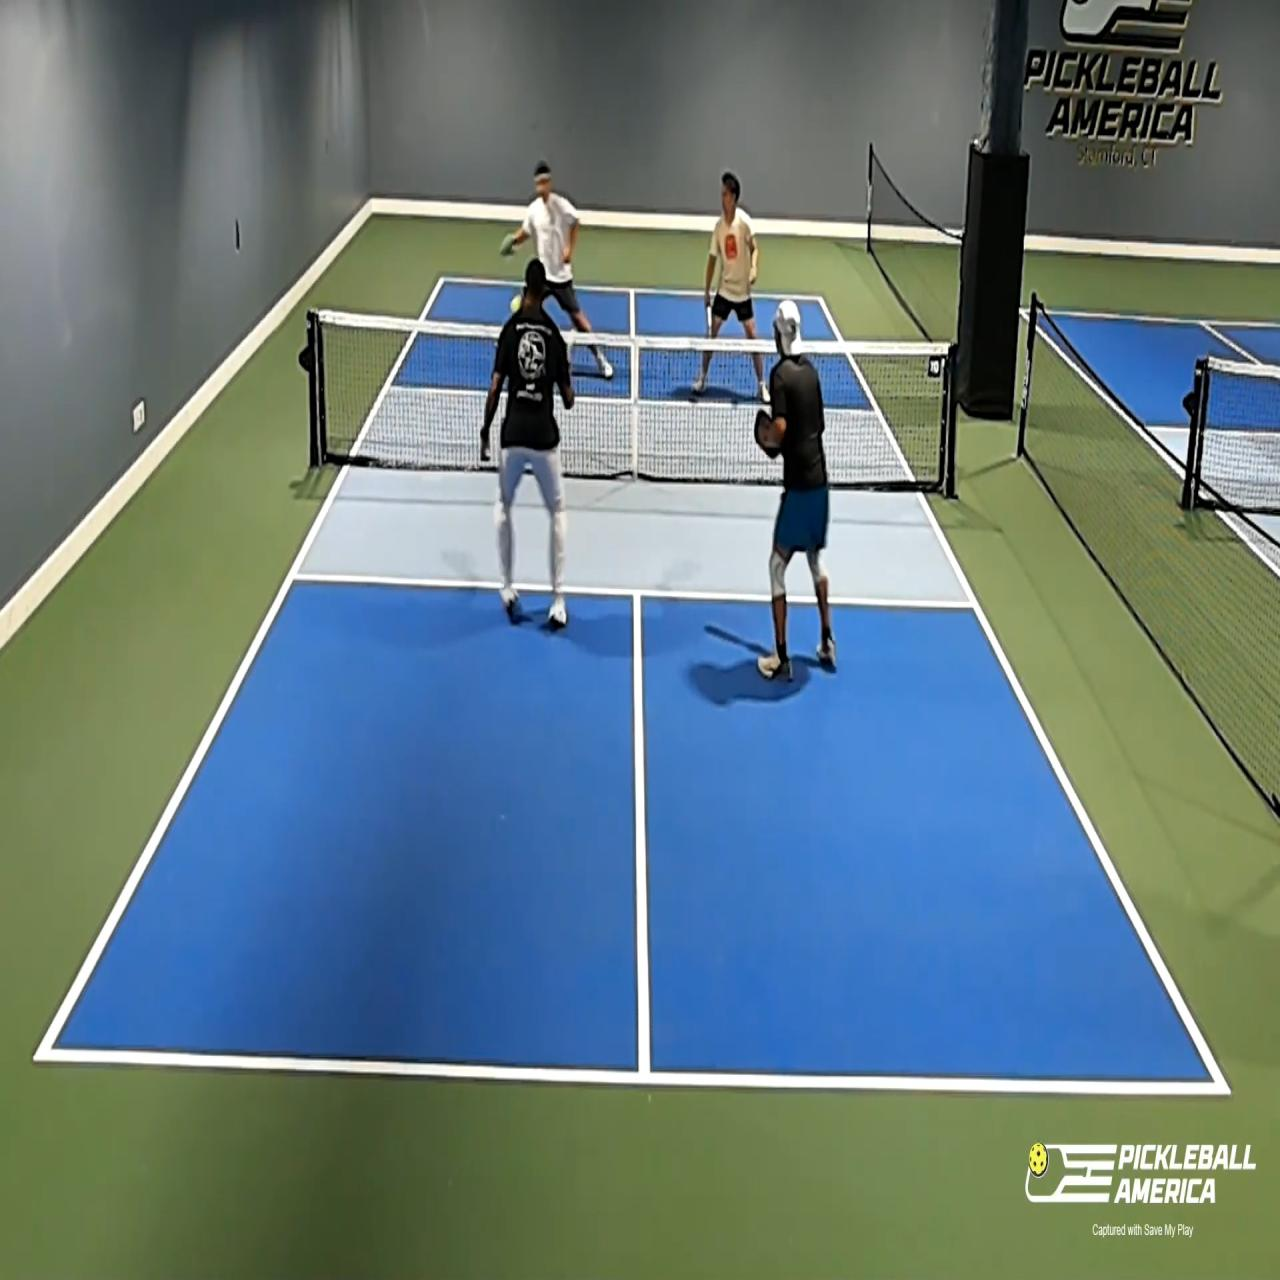Pickleball: (508, 290, 524, 314)
